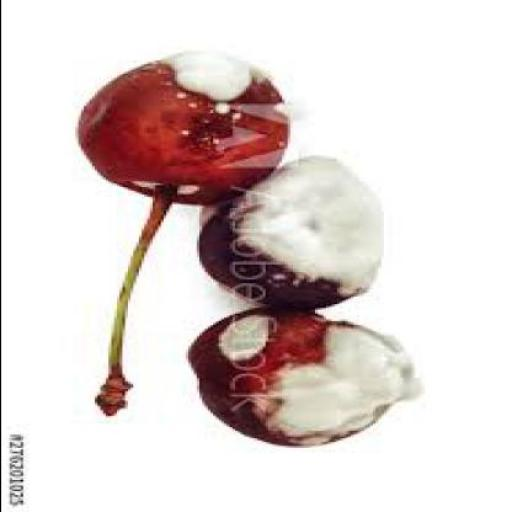biodegradable: (78, 49, 292, 416), (190, 304, 424, 444), (198, 153, 388, 306)
